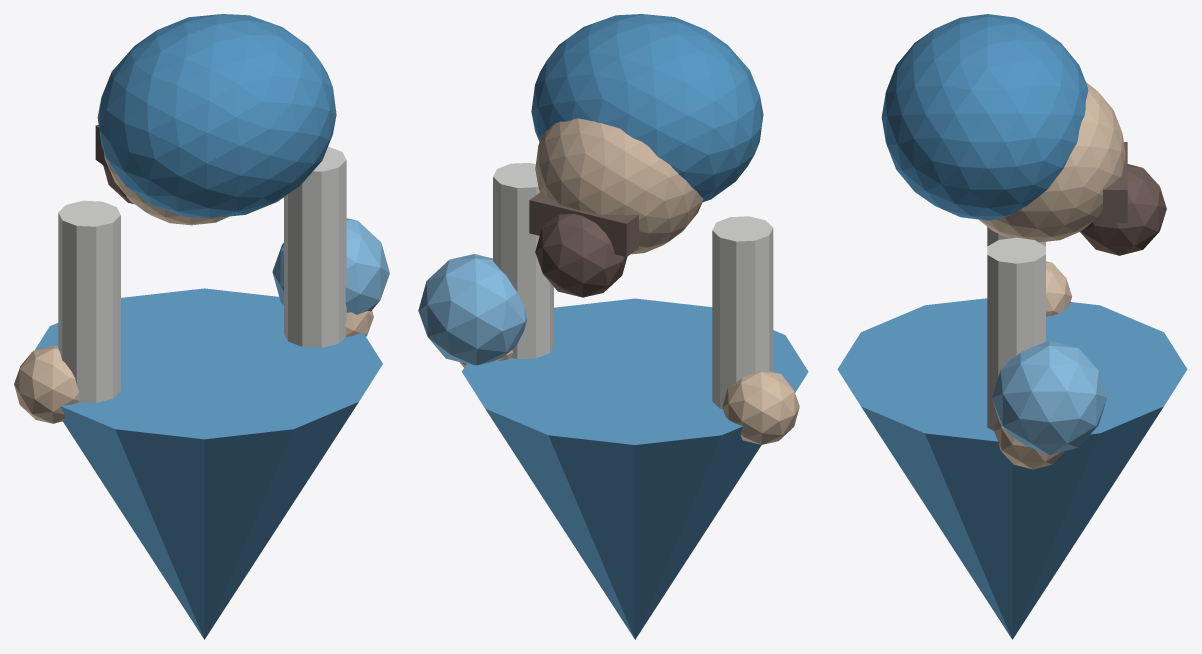
The model's file is wizard.glb.
3 views of the same model, side by side, from view 1: azimuth 30°, elevation 25°; view 2: azimuth 150°, elevation 25°; view 3: azimuth 270°, elevation 25° (orthographic). The views are drawn at different scales.
Visible parts, largest first — view 1: wizard_0, wizard_2, wizard_5, wizard_7, wizard_9, wizard_6, wizard_1, wizard_8; view 2: wizard_0, wizard_2, wizard_1, wizard_5, wizard_9, wizard_7, wizard_4, wizard_6, wizard_3; view 3: wizard_0, wizard_2, wizard_9, wizard_1, wizard_7, wizard_4, wizard_8, wizard_3, wizard_6.
Boxes of the visible parts, box(x1,y1,x2,y2) form: wizard_0: box(35, 288, 382, 639); wizard_2: box(97, 14, 336, 217); wizard_5: box(58, 200, 120, 402); wizard_7: box(284, 146, 346, 347); wizard_9: box(272, 218, 389, 314); wizard_6: box(14, 345, 79, 423); wizard_1: box(104, 152, 229, 225); wizard_8: box(345, 310, 373, 336); wizard_0: box(462, 298, 808, 639); wizard_2: box(531, 14, 763, 202); wizard_1: box(535, 118, 703, 254); wizard_5: box(712, 216, 773, 409); wizard_9: box(418, 254, 527, 365); wizard_7: box(493, 163, 553, 359); wizard_4: box(535, 213, 627, 297); wizard_6: box(722, 371, 799, 444); wizard_3: box(529, 191, 638, 256); wizard_0: box(837, 298, 1187, 639); wizard_2: box(881, 14, 1088, 220); wizard_9: box(992, 340, 1106, 454); wizard_1: box(979, 82, 1125, 242); wizard_7: box(987, 237, 1045, 430); wizard_4: box(1080, 164, 1166, 255); wizard_8: box(994, 418, 1064, 469); wizard_3: box(1103, 142, 1127, 223); wizard_6: box(1046, 261, 1071, 316).
Bounding box in the file's own units: 2.04 × 3.28 × 1.7.
